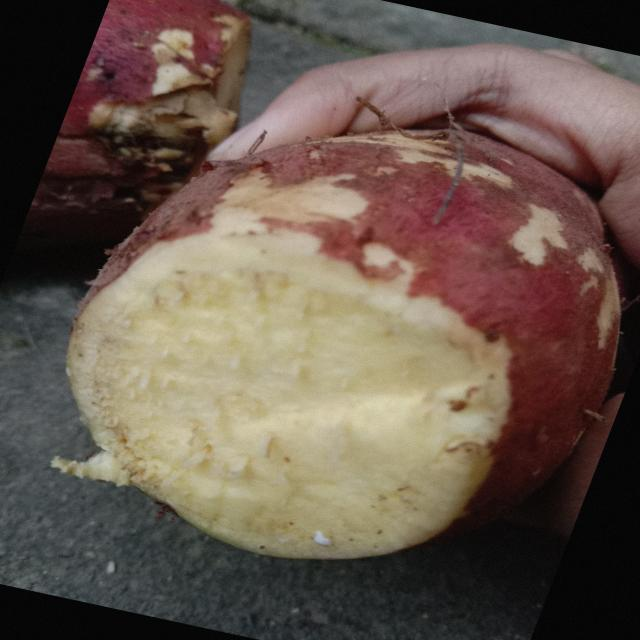Healthy Sweet Potato: (53, 232, 510, 559)
